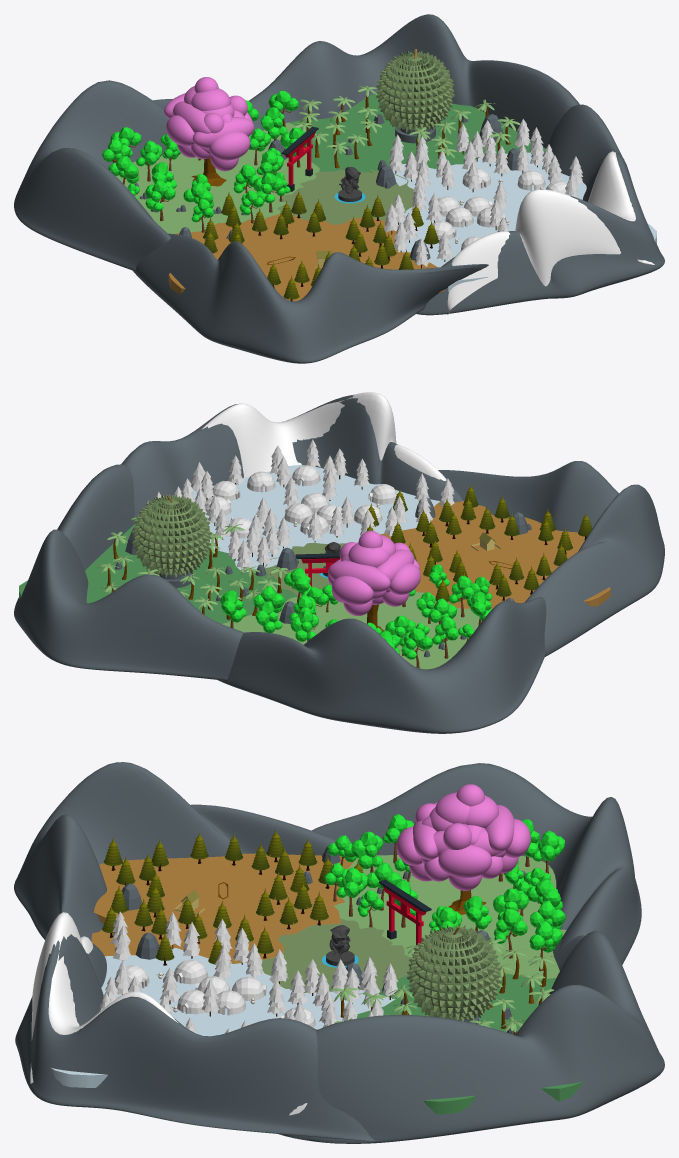
File: FourSeasonsWorldMap_New.fbx
The picture shows the model from 3 angles, top to bottom: view 1: azimuth 30°, elevation 25°; view 2: azimuth 150°, elevation 25°; view 3: azimuth 270°, elevation 25°; orthographic projection. The views are drawn at different scales.
Visible parts, largest first — view 1: Cube.003, Fate Isle Continent, Cube.002, Cube.001, Cube, Cube.004, Autumn Continent, Cube.019, Sphere.001, Cube.020, CherryExtra.017, CherryExtra.001 (+4 smaller); view 2: Cube.002, Cube.001, Cube.003, Fate Isle Continent, Cube, Autumn Continent, Cube.004, Cube.019, Sphere.001, CherryExtra.013, CherryExtra.011, Cube.020 (+5 smaller); view 3: Cube.001, Cube, Fate Isle Continent, Cube.003, Cube.002, Autumn Continent, Cube.019, Sphere.001, Cube.004, Cube.020, CherryExtra.018, CherryExtra.007 (+13 smaller).
Boxes of the visible parts, box(x1,y1,x2,y2) form: Cube.003: box(132, 233, 488, 363); Fate Isle Continent: box(116, 93, 656, 291); Cube.002: box(14, 80, 172, 271); Cube.001: box(249, 14, 579, 148); Cube: box(416, 104, 664, 315); Cube.004: box(446, 151, 654, 314); Autumn Continent: box(168, 214, 445, 301); Cube.019: box(164, 77, 254, 186); Sphere.001: box(376, 49, 454, 132); Cube.020: box(281, 126, 318, 191); CherryExtra.017: box(145, 180, 175, 221); CherryExtra.001: box(253, 173, 283, 212); Cube.002: box(218, 597, 546, 733); Cube.001: box(14, 464, 243, 680); Cube.003: box(438, 461, 664, 656); Fate Isle Continent: box(19, 465, 481, 669); Cube: box(121, 395, 462, 519); Autumn Continent: box(380, 501, 610, 608); Cube.004: box(202, 392, 446, 480); Cube.019: box(328, 530, 420, 631); Sphere.001: box(132, 493, 211, 577); CherryExtra.013: box(401, 628, 432, 667); CherryExtra.011: box(290, 610, 319, 641); Cube.020: box(295, 553, 340, 586); Cube.001: box(278, 930, 664, 1143); Cube: box(15, 934, 375, 1141); Fate Isle Continent: box(50, 855, 583, 1114); Cube.003: box(14, 762, 339, 941); Cube.002: box(312, 763, 641, 964); Autumn Continent: box(91, 853, 354, 963); Cube.019: box(396, 784, 530, 914); Sphere.001: box(407, 924, 501, 1021); Cube.004: box(30, 912, 307, 1115); Cube.020: box(379, 879, 431, 945); CherryExtra.018: box(351, 831, 383, 872); CherryExtra.007: box(494, 909, 527, 958).
Bounding box in the file's own units: 181 × 47.88 × 169.
